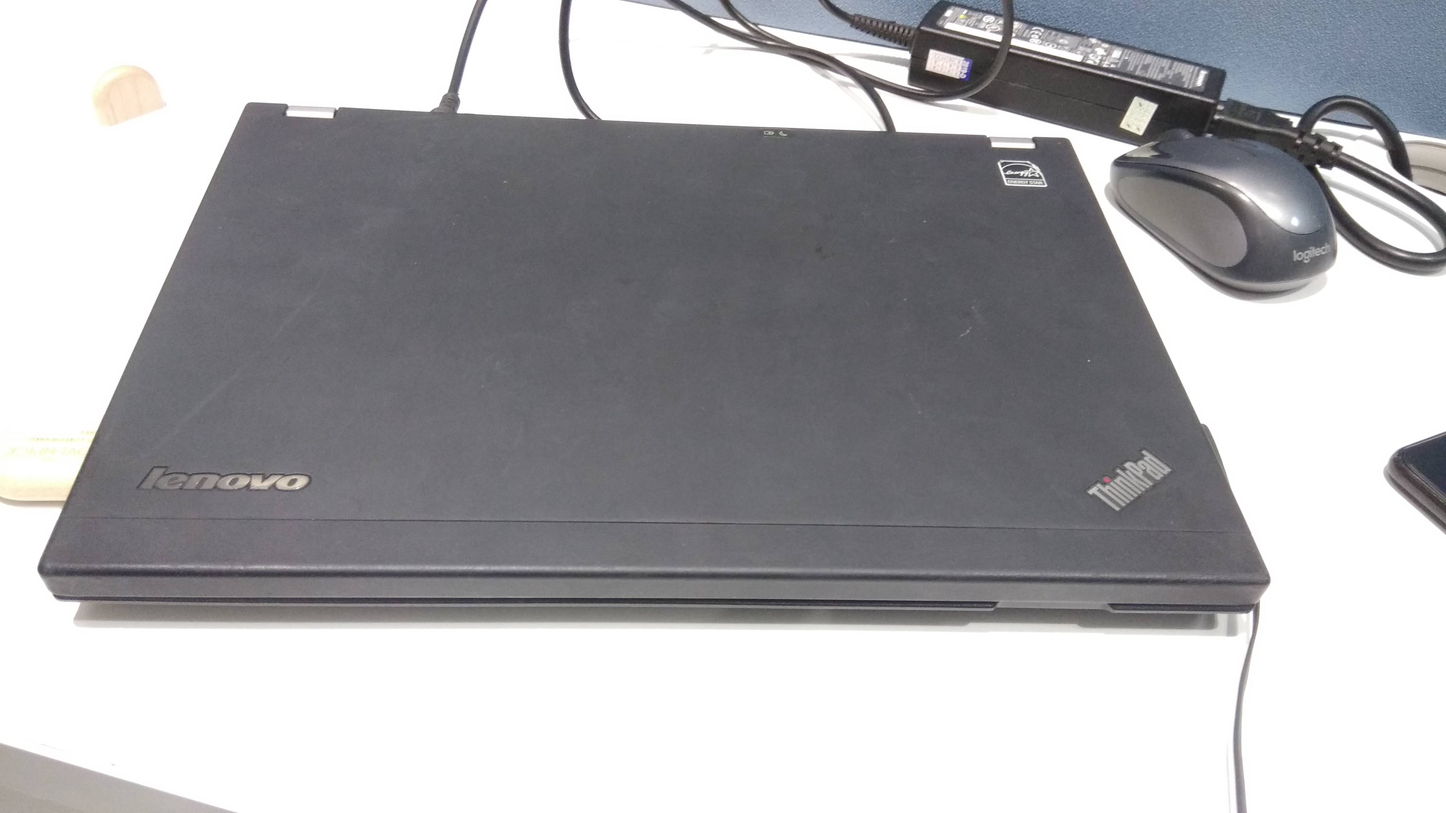Electronics: (30, 85, 1280, 656)
